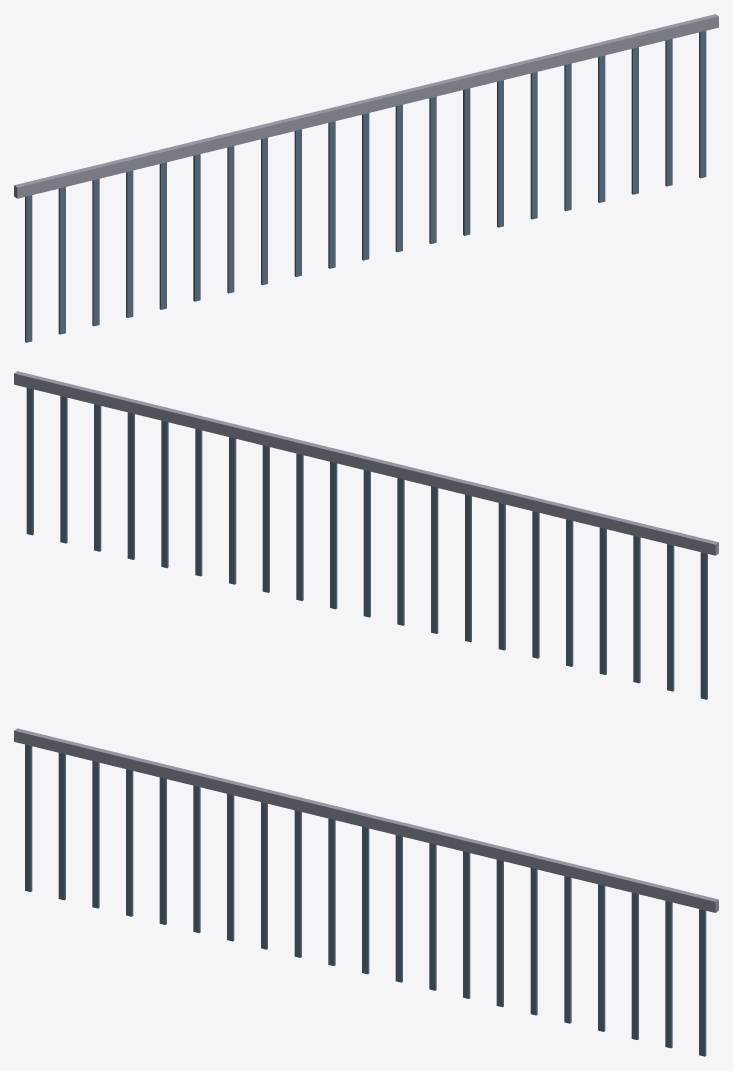
The picture shows the model from 3 angles, top to bottom: view 1: azimuth 30°, elevation 25°; view 2: azimuth 150°, elevation 25°; view 3: azimuth 330°, elevation 25°; orthographic projection.
Parts seen in each view (by area): view 1: platform_2; view 2: platform_2; view 3: platform_2.
Boxes of the visible parts, left/top/right/bottom form: platform_2: left=14, top=14, right=718, bottom=342; platform_2: left=14, top=371, right=718, bottom=699; platform_2: left=14, top=728, right=718, bottom=1056.
Bounding box in the file's own units: 4.15 × 0.8956 × 0.034.
Materials: 1 (1 with a texture image).
